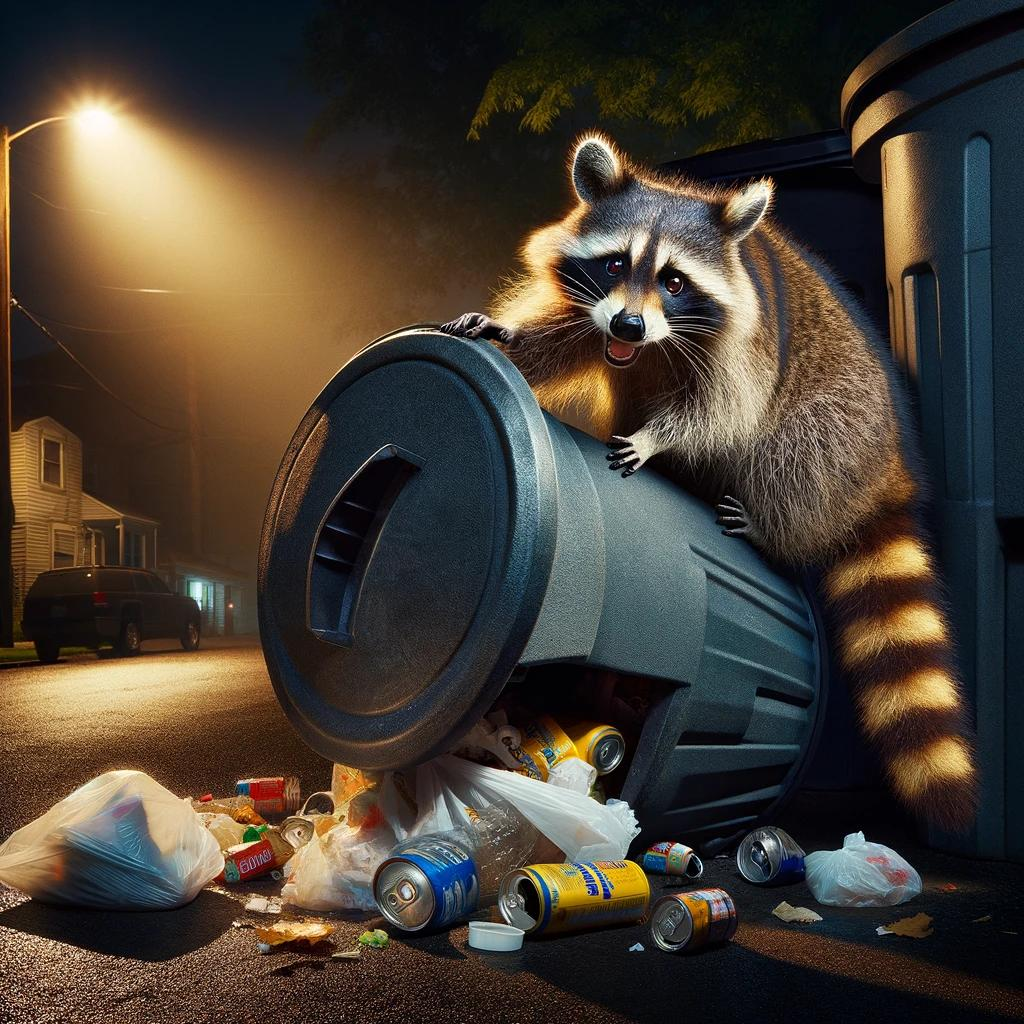raccoon: (487, 128, 990, 842)
